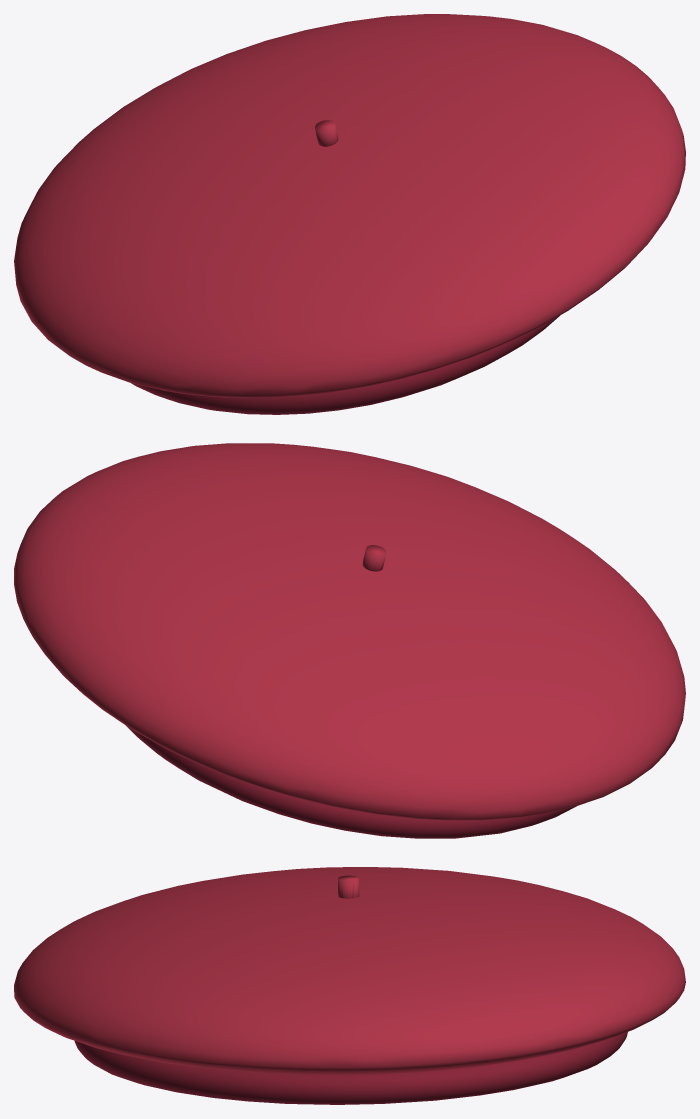
File: wear-beret.glb
3 views of the same model, one above another, from view 1: azimuth 30°, elevation 25°; view 2: azimuth 150°, elevation 25°; view 3: azimuth 270°, elevation 25° (orthographic). The views are drawn at different scales.
Parts seen in each view (by area): view 1: beret; view 2: beret; view 3: beret.
Part boxes in pixels (x1,y1,x2,y2): beret: (14,14,685,414); beret: (14,443,685,838); beret: (14,867,685,1104).
Size of the model in its own units: 1.68 by 0.5777 by 1.64.
1 material, 1 textured.
